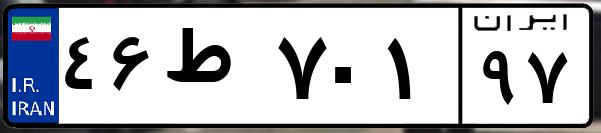0: (330, 28, 385, 110)
1: (385, 28, 445, 110)
4: (57, 26, 110, 100)
6: (110, 28, 158, 98)
7: (270, 28, 330, 110), (525, 38, 570, 115)
9: (475, 38, 525, 113)
ط: (158, 20, 270, 120)
